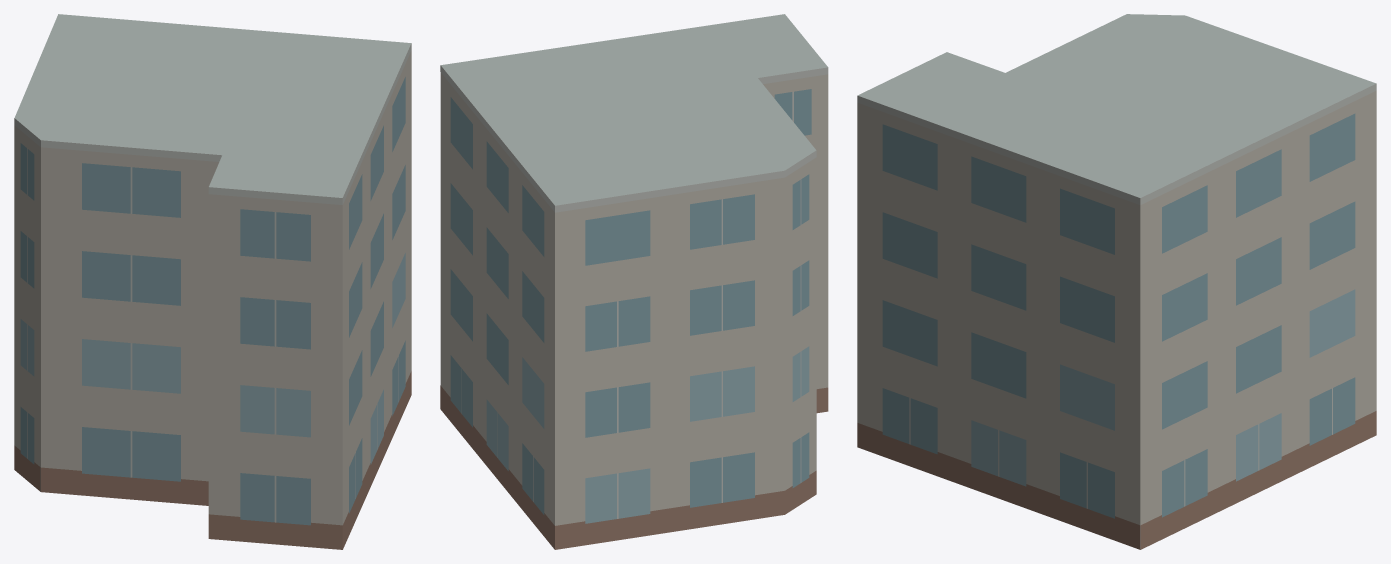
The model's file is survey-upis-32534483.glb.
3 views of the same model, side by side, from view 1: azimuth 30°, elevation 25°; view 2: azimuth 150°, elevation 25°; view 3: azimuth 270°, elevation 25° (orthographic). The views are drawn at different scales.
Parts seen in each view (by area): view 1: survey-upis-32534483.tmp; view 2: survey-upis-32534483.tmp; view 3: survey-upis-32534483.tmp.
Boxes of the visible parts, x1,y1,x2,y2 form: survey-upis-32534483.tmp: [14, 14, 411, 549]; survey-upis-32534483.tmp: [440, 14, 828, 549]; survey-upis-32534483.tmp: [857, 14, 1376, 549].
Bounding box in the file's own units: 13.64 × 12.14 × 16.25.
